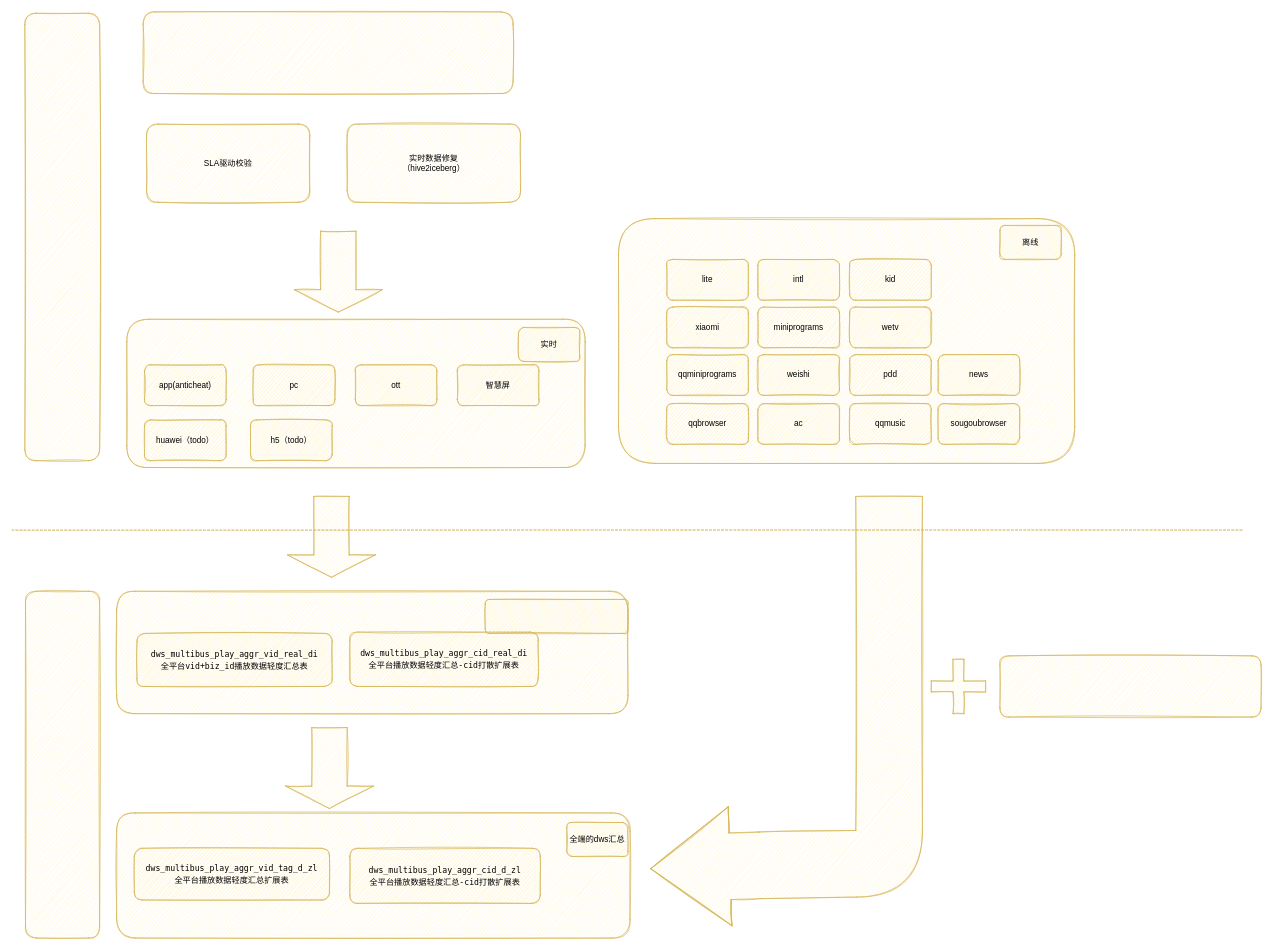
Image size: 1274x950. Some labels were removed from this diagram. Here are the shapes that lost their labels. From the top down, the box of each, then its label:
(142, 11, 513, 94): iceberg
(24, 13, 100, 461): dwd层
(485, 599, 628, 633): 三端的dws汇总，仅用于智能决策三端数据产出
(999, 655, 1261, 717): pcg_video_dim::dim_all_content_vid_realtime_h_ql 准实时媒资表
(25, 591, 100, 938): dws层
